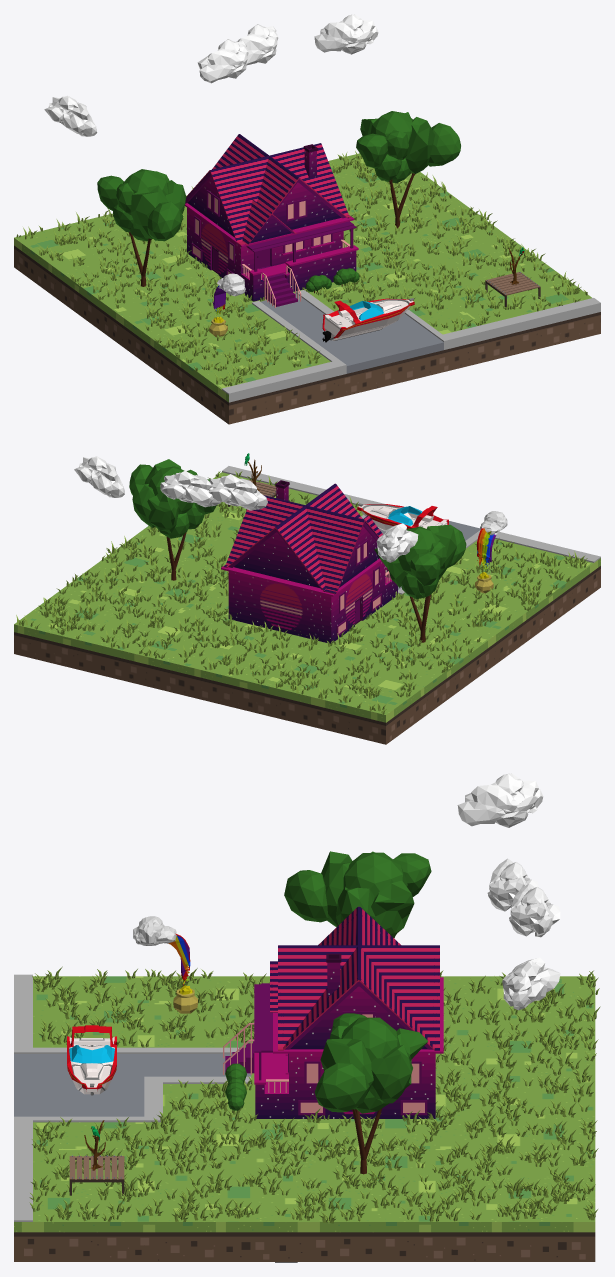
The picture shows the model from 3 angles, top to bottom: view 1: azimuth 30°, elevation 25°; view 2: azimuth 150°, elevation 25°; view 3: azimuth 270°, elevation 25°; orthographic projection. The views are drawn at different scales.
Parts seen in each view (by area): view 1: Cube.006, Cube.156, Circle.012_Grass_0.192, Cube.007, tree, tree.001, VEHICLES_BOAT, OBJRANDOM_RAINBOW, Cube.009; view 2: Cube.006, Cube.156, Circle.012_Grass_0.192, Cube.007, tree.001, tree, VEHICLES_BOAT, OBJRANDOM_RAINBOW; view 3: Cube.006, Circle.012_Grass_0.192, Cube.156, tree, Cube.007, tree.001, VEHICLES_BOAT, OBJRANDOM_RAINBOW, Cube.009.
Boxes of the visible parts, x1,y1,x2,y2 form: Cube.006: [14, 153, 600, 424]; Cube.156: [185, 134, 358, 307]; Circle.012_Grass_0.192: [16, 151, 587, 386]; Cube.007: [44, 14, 378, 136]; tree: [356, 111, 460, 228]; tree.001: [97, 169, 186, 286]; VEHICLES_BOAT: [322, 298, 414, 342]; OBJRANDOM_RAINBOW: [209, 273, 245, 337]; Cube.009: [485, 272, 540, 306]; Cube.006: [14, 466, 600, 744]; Cube.156: [221, 480, 397, 643]; Circle.012_Grass_0.192: [16, 471, 587, 714]; Cube.007: [74, 456, 418, 562]; tree.001: [374, 524, 466, 642]; tree: [129, 459, 216, 580]; VEHICLES_BOAT: [357, 503, 448, 530]; OBJRANDOM_RAINBOW: [475, 511, 507, 593]; Cube.006: [14, 974, 595, 1261]; Circle.012_Grass_0.192: [29, 966, 600, 1223]; Cube.156: [223, 906, 443, 1118]; tree: [314, 1013, 427, 1174]; Cube.007: [457, 773, 560, 1010]; tree.001: [284, 851, 431, 938]; VEHICLES_BOAT: [67, 1025, 116, 1095]; OBJRANDOM_RAINBOW: [133, 916, 197, 1013]; Cube.009: [69, 1155, 124, 1195].
Size of the model in its own units: 4071 by 2184 by 4040.
37 materials, 5 textured.
